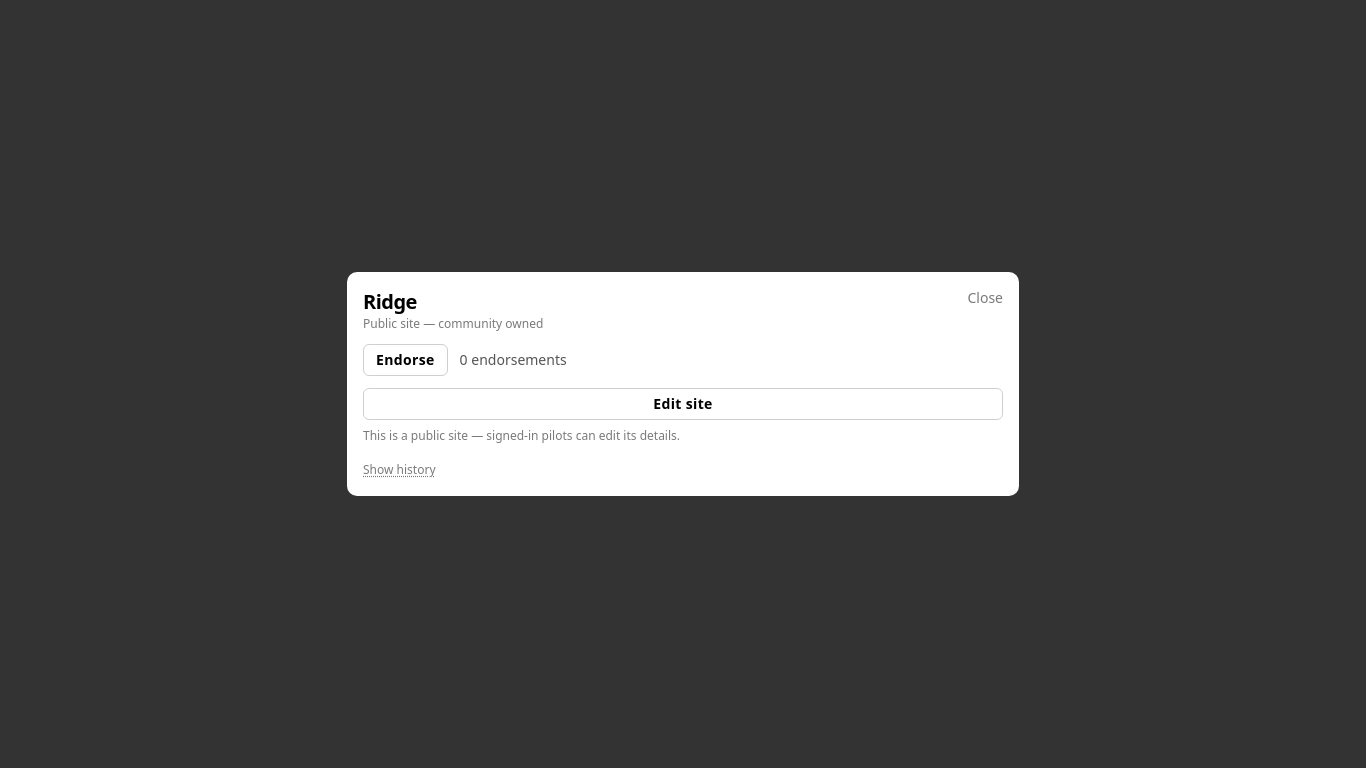
Scenario: preserves the count and enables retry when an endorsement request fails
Click the button "Endorse" at (405, 360), box [363, 344, 448, 376]
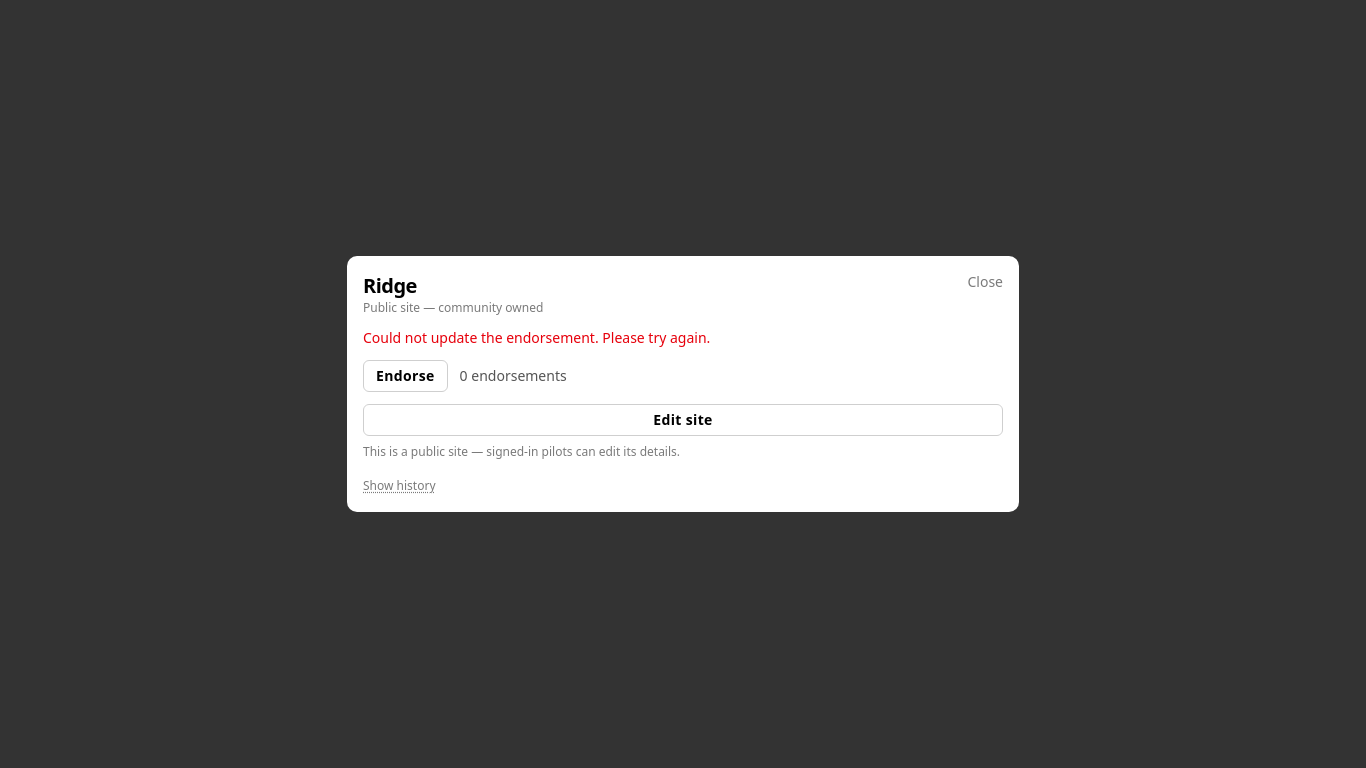
Expected: the button "Endorse" is enabled, [363, 360, 448, 392]
Expected: the text "Could not update the endorsement. Please try again." is shown, [363, 328, 710, 347]
